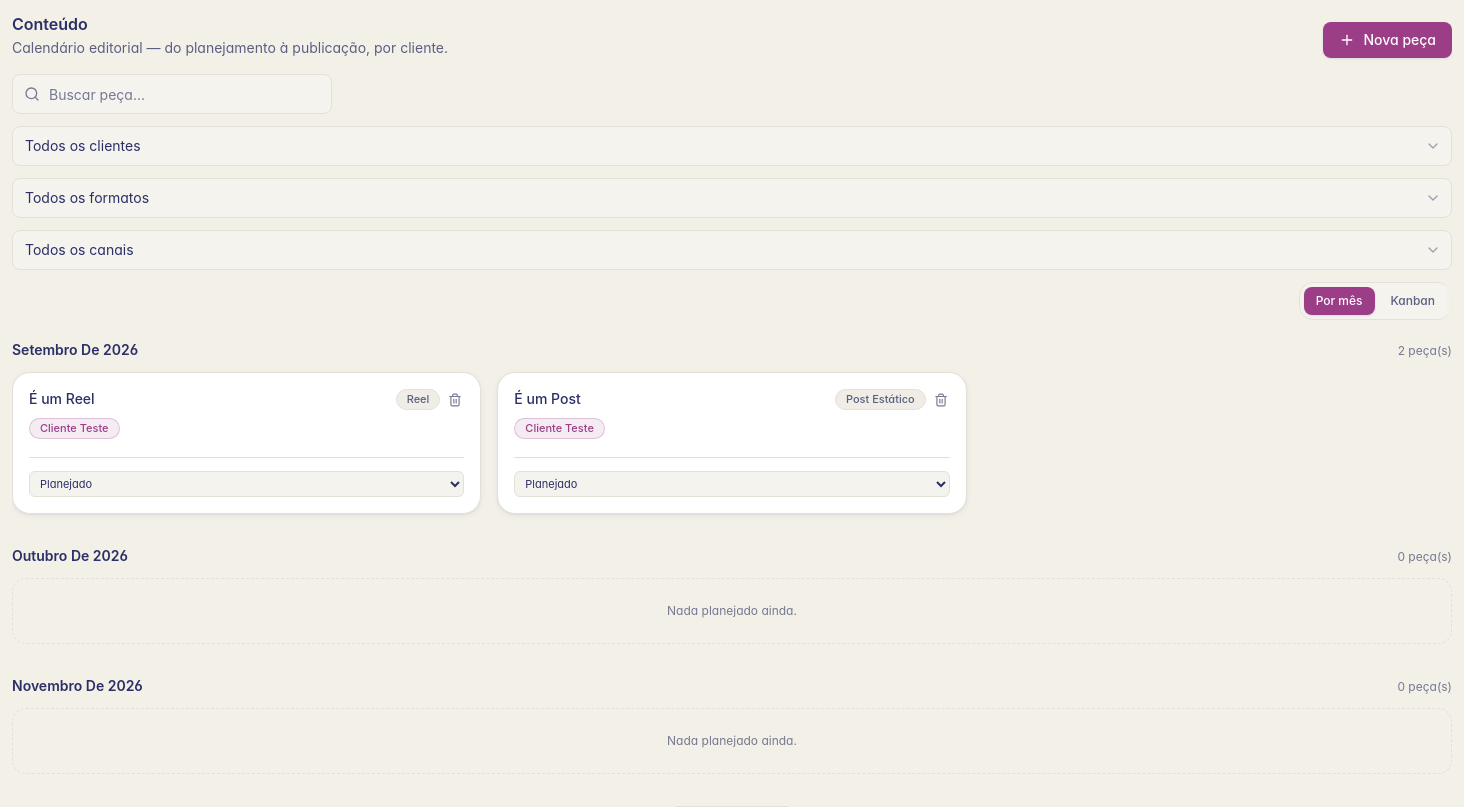
ContentPage — visão por mês (padrão) › filtro de formato esconde peças de outros formatos
Select "Reel" in the 2nd dropdown showing "Todos os formatos" at (732, 198), box [12, 178, 1452, 218]
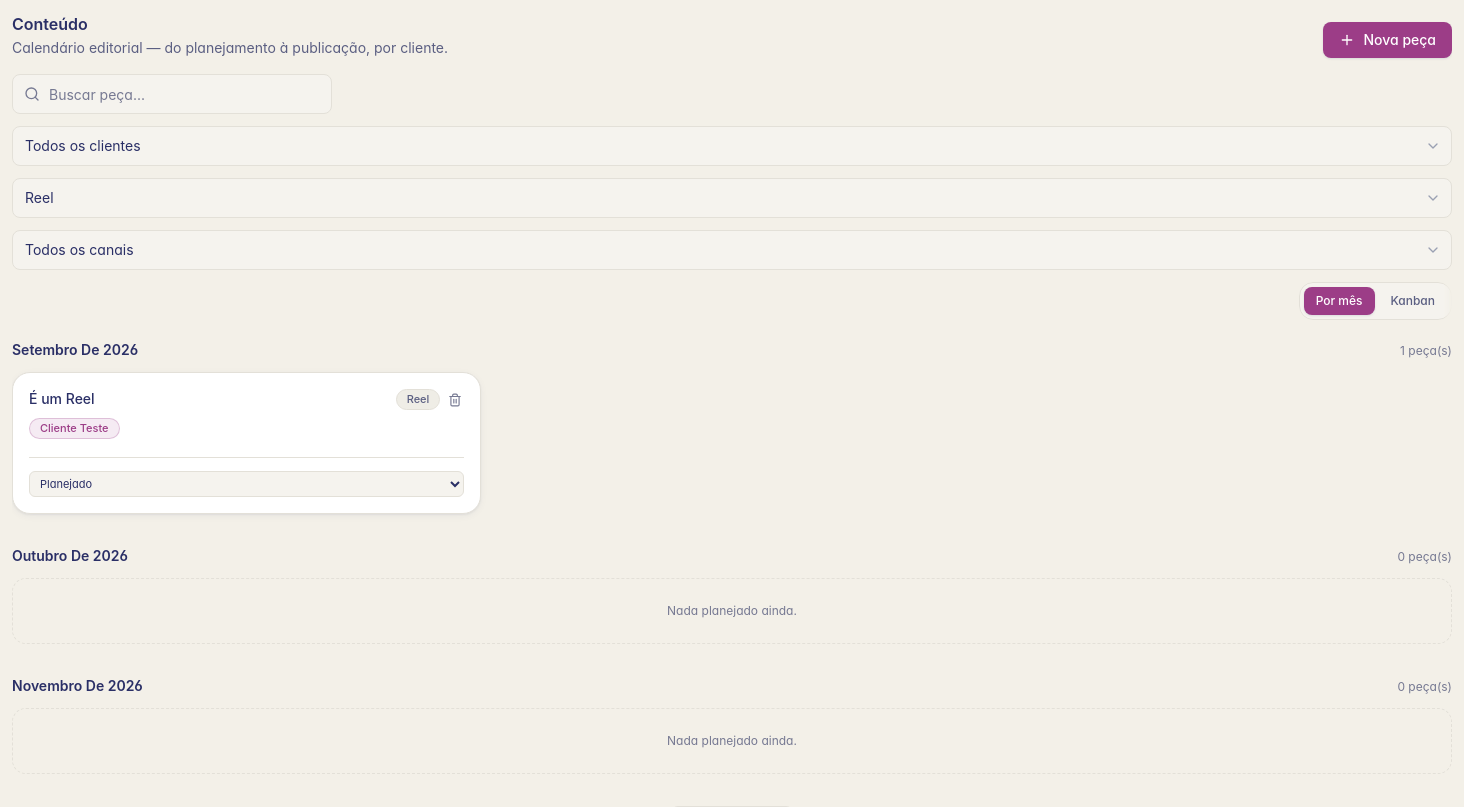
Expected: the text "É um Reel" is shown, [29, 389, 95, 409]
Expected: the button "É um Post" is gone
